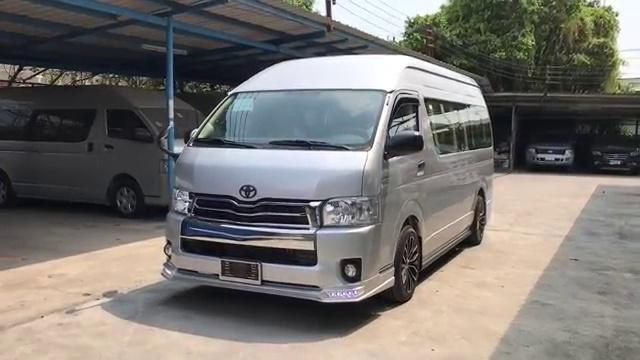van: (160, 55, 493, 311)
